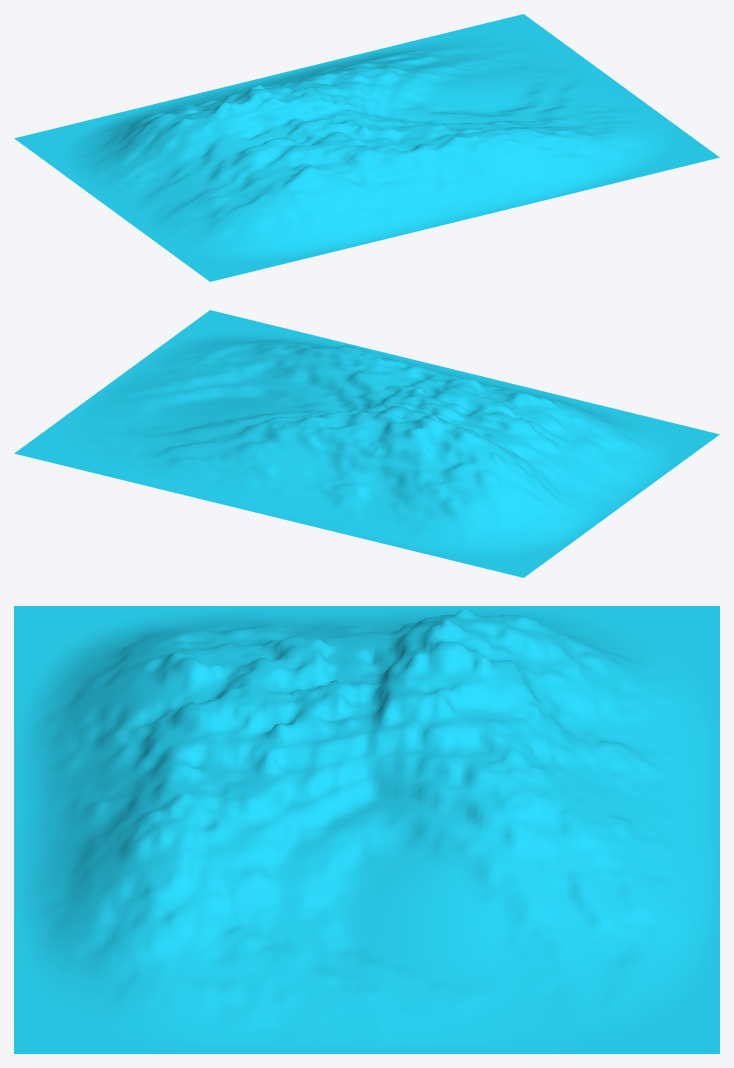
File: ocean_landscape.glb
3 renders of one model, top to bottom at view 1: azimuth 30°, elevation 25°; view 2: azimuth 150°, elevation 25°; view 3: azimuth 270°, elevation 25°, orthographic. The views are drawn at different scales.
Parts seen in each view (by area): view 1: Landscape; view 2: Landscape; view 3: Landscape.
Part boxes in pixels (x1=…): Landscape: x1=14, y1=14, x2=719, y2=281; Landscape: x1=14, y1=310, x2=719, y2=577; Landscape: x1=14, y1=606, x2=719, y2=1053.
Bounding box in the file's own units: 4.59 × 0.5251 × 3.06.
